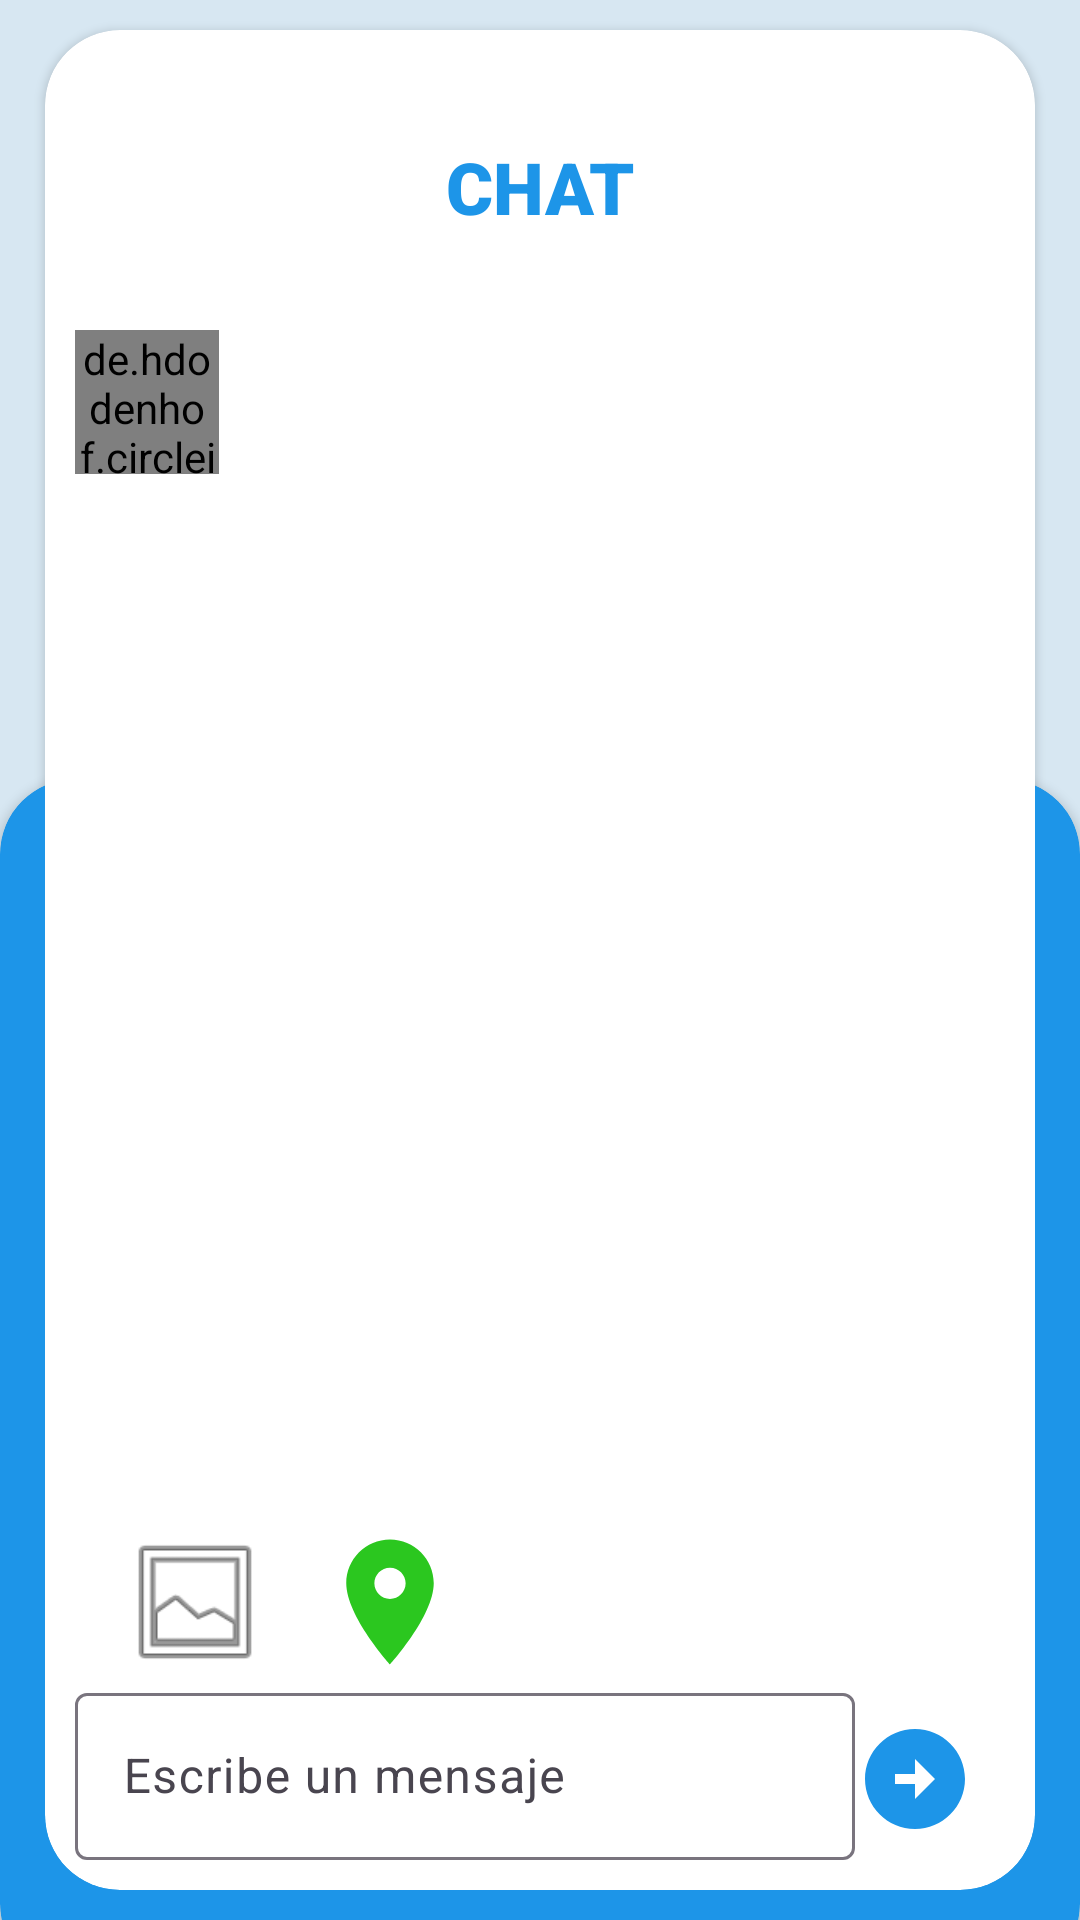

Named icons in this screenshot (1080*1920) and their bounding boxes, (x1, y1, x2, y2):
enviar: (865, 1729, 965, 1829)
gallery: (138, 1545, 252, 1659)
location: (346, 1539, 434, 1665)
